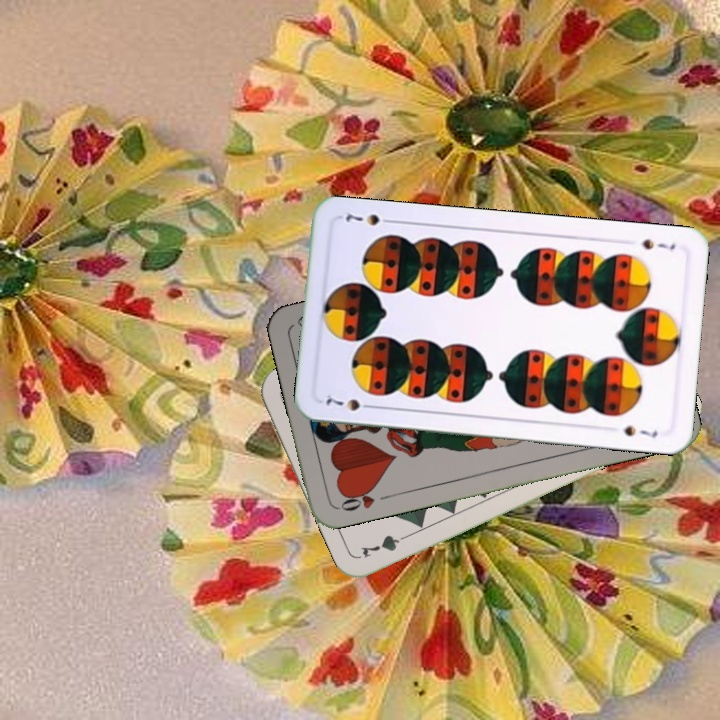G7: (356, 529, 414, 560)
HO: (335, 483, 393, 514)
S7: (322, 390, 378, 414), (638, 235, 678, 253)
